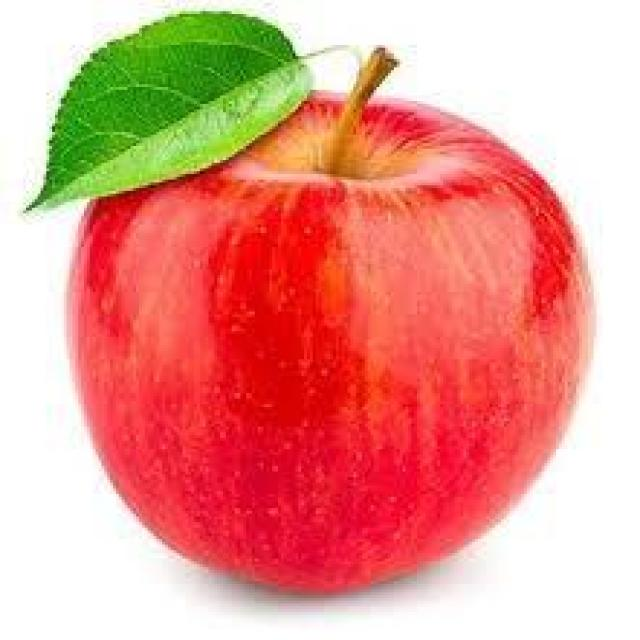maca: (61, 45, 594, 595)
